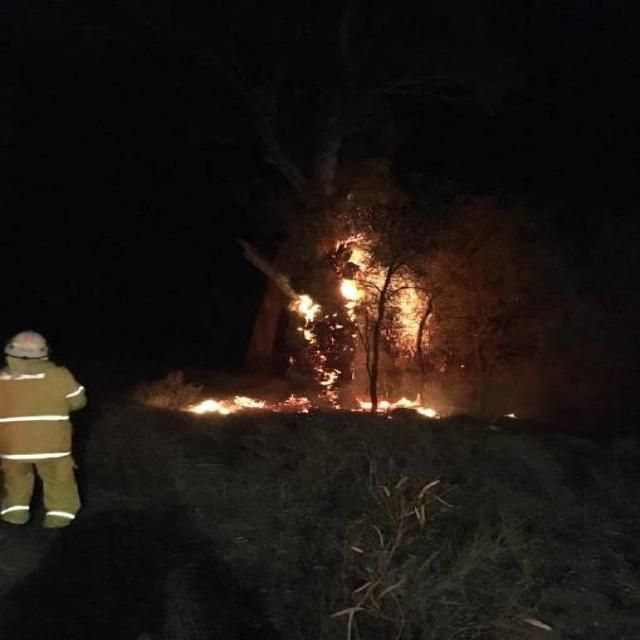fire: (185, 390, 261, 422), (362, 394, 433, 414), (337, 268, 360, 318), (293, 294, 323, 330)
